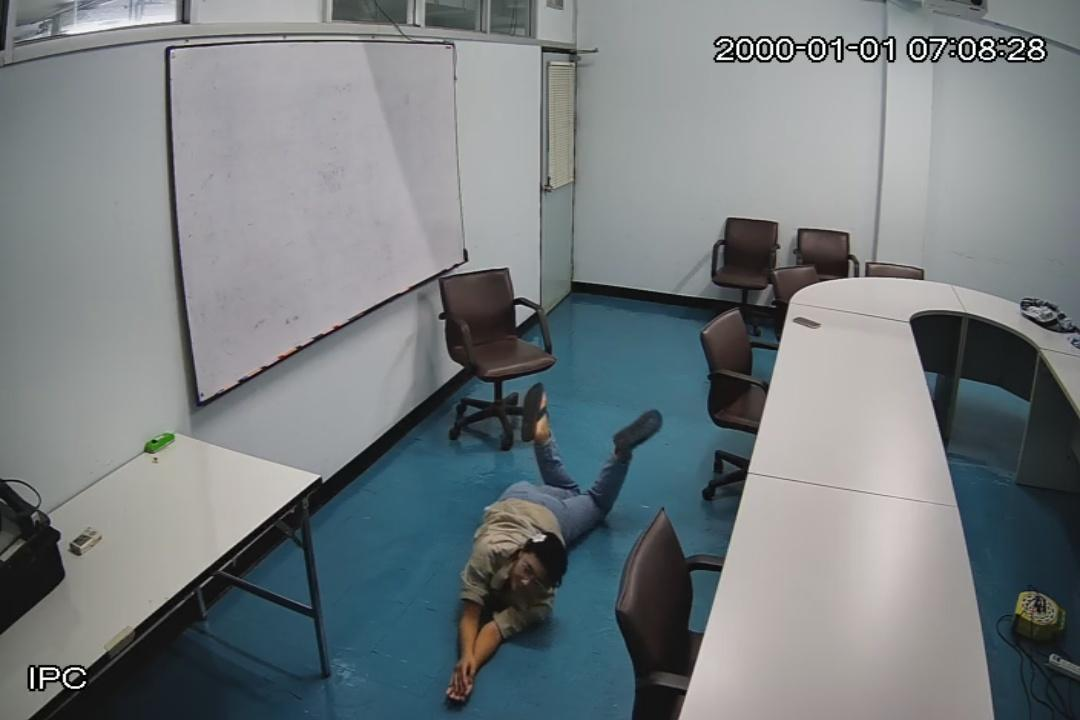fall: (442, 382, 663, 700)
